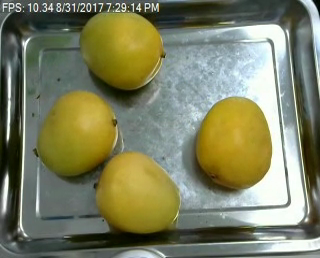Mango: (194, 94, 274, 191), (33, 90, 118, 178), (95, 150, 181, 236), (75, 9, 163, 92)
